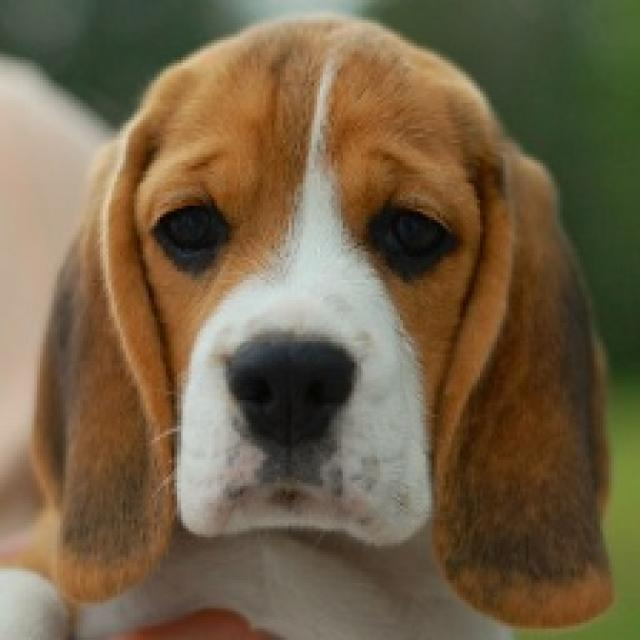cho khoe manh: (12, 3, 637, 640)
